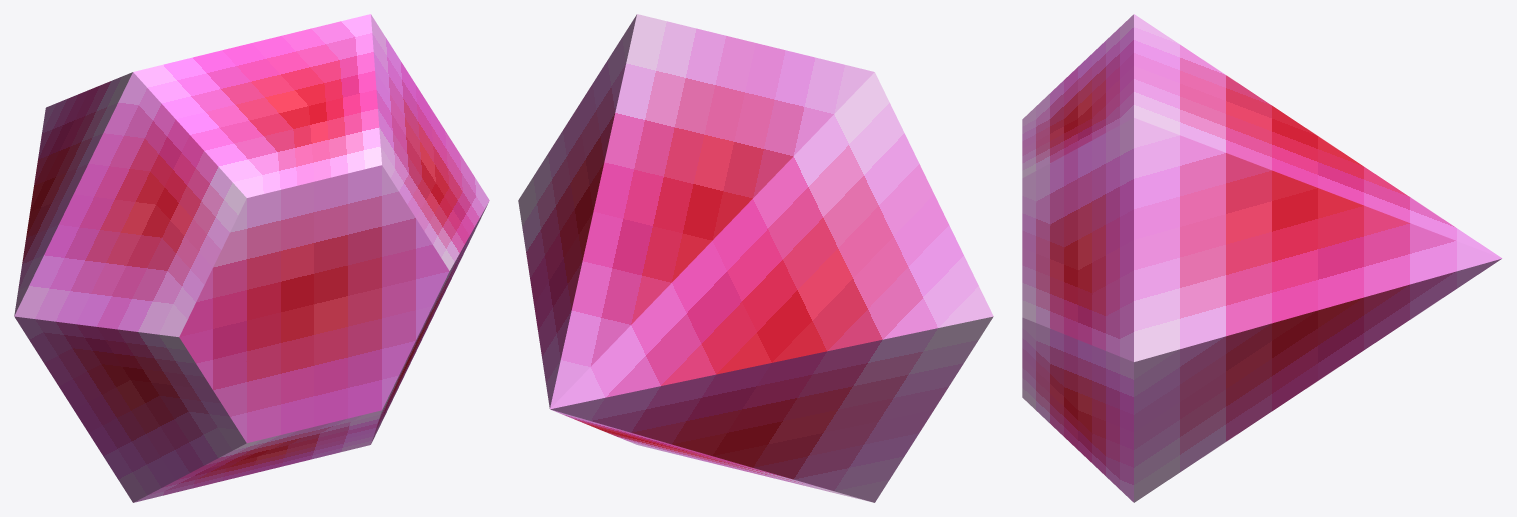
File: Jewel02.glb
3 renders of one model, left to right at view 1: azimuth 30°, elevation 25°; view 2: azimuth 150°, elevation 25°; view 3: azimuth 270°, elevation 25°, orthographic. The views are drawn at different scales.
Parts seen in each view (by area): view 1: model_Jewel02; view 2: model_Jewel02; view 3: model_Jewel02.
Part boxes in pixels (x1=…): model_Jewel02: x1=14, y1=14, x2=489, y2=502; model_Jewel02: x1=518, y1=14, x2=993, y2=502; model_Jewel02: x1=1022, y1=14, x2=1502, y2=502.
Bounding box in the file's own units: 0.2239 × 0.1939 × 0.219.
Materials: 1 (1 with a texture image).
